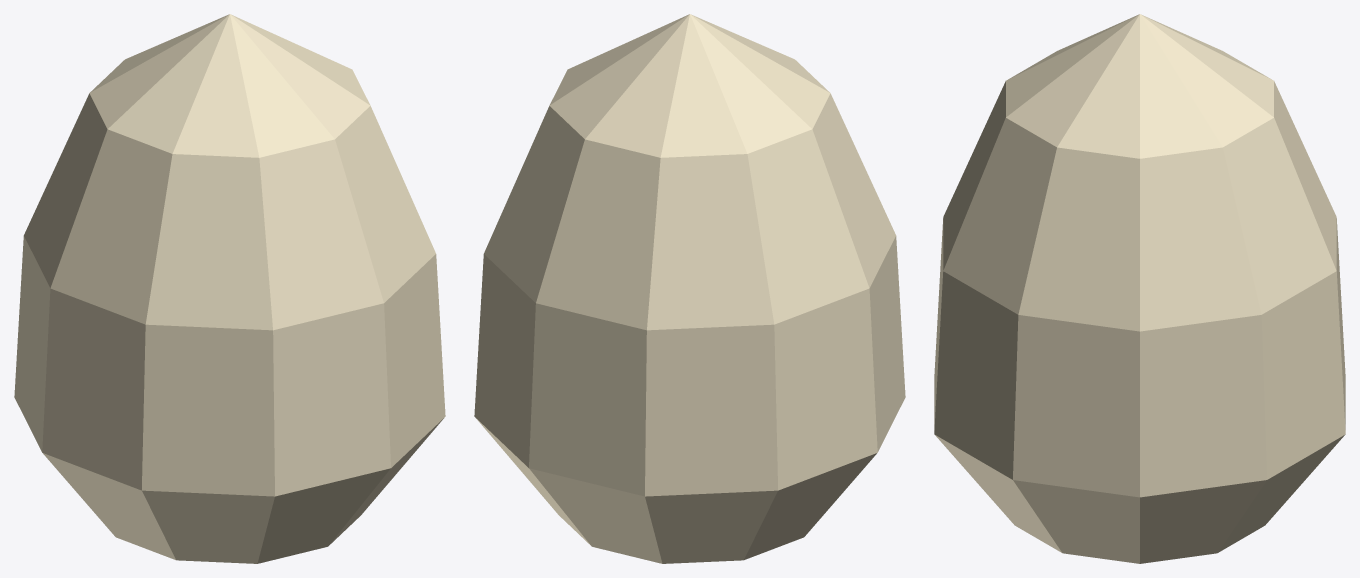
File: egg.glb
The picture shows the model from 3 angles, left to right: view 1: azimuth 30°, elevation 25°; view 2: azimuth 150°, elevation 25°; view 3: azimuth 270°, elevation 25°; orthographic projection.
Visible parts, largest first — view 1: egg; view 2: egg; view 3: egg.
Boxes of the visible parts, x1=… form: egg: x1=14, y1=14, x2=445, y2=563; egg: x1=474, y1=14, x2=905, y2=563; egg: x1=934, y1=14, x2=1345, y2=563.
Size of the model in its own units: 0.046 by 0.062 by 0.0437.
